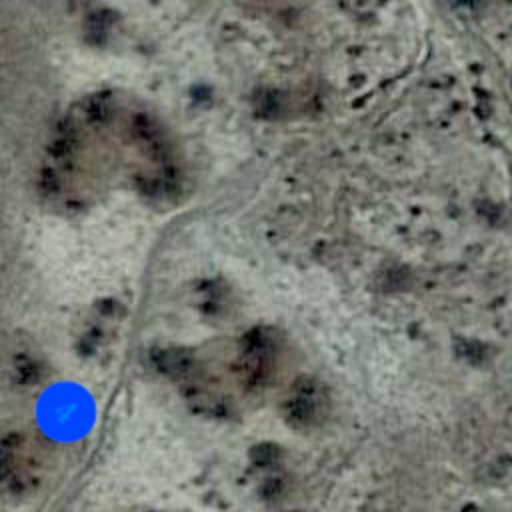circle: (22, 368, 110, 456)
